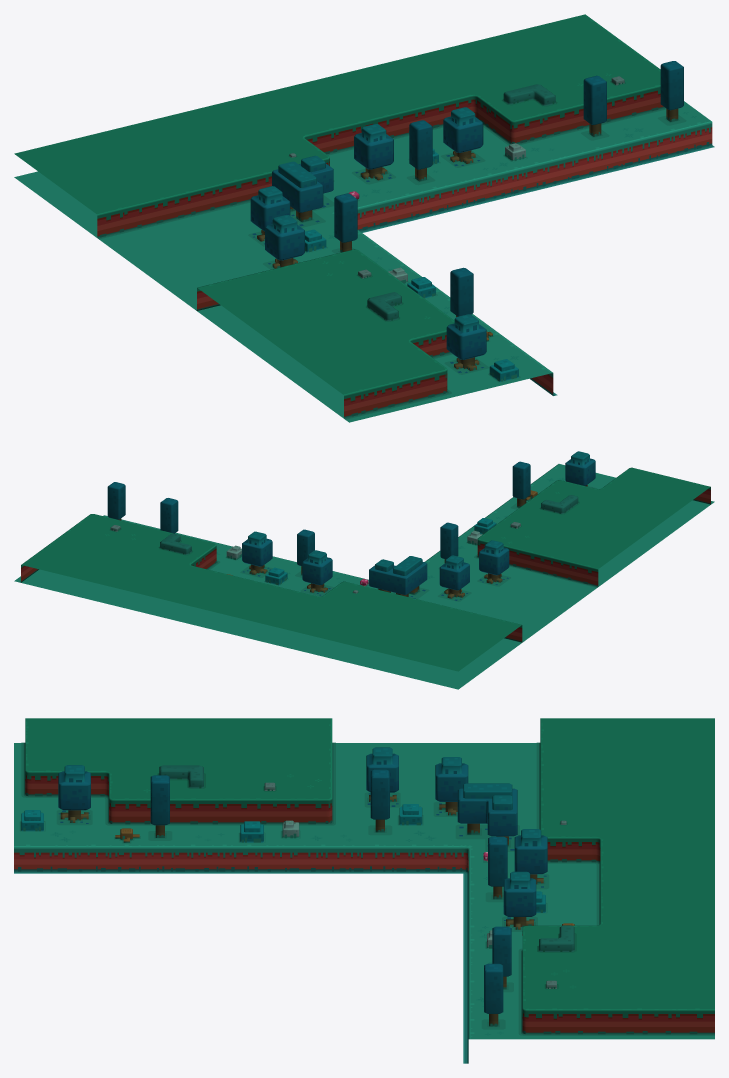
Rendered from C_forest1_out_RD.fbx.
3 renders of one model, top to bottom at view 1: azimuth 30°, elevation 25°; view 2: azimuth 150°, elevation 25°; view 3: azimuth 270°, elevation 25°, orthographic. The views are drawn at different scales.
Parts seen in each view (by area): view 1: C_forest1_out_RD; view 2: C_forest1_out_RD; view 3: C_forest1_out_RD.
Boxes of the visible parts, x1=… form: C_forest1_out_RD: x1=14, y1=14, x2=714, y2=422; C_forest1_out_RD: x1=14, y1=451, x2=714, y2=689; C_forest1_out_RD: x1=14, y1=718, x2=714, y2=1063.
Size of the model in its own units: 117 by 15.19 by 117.
